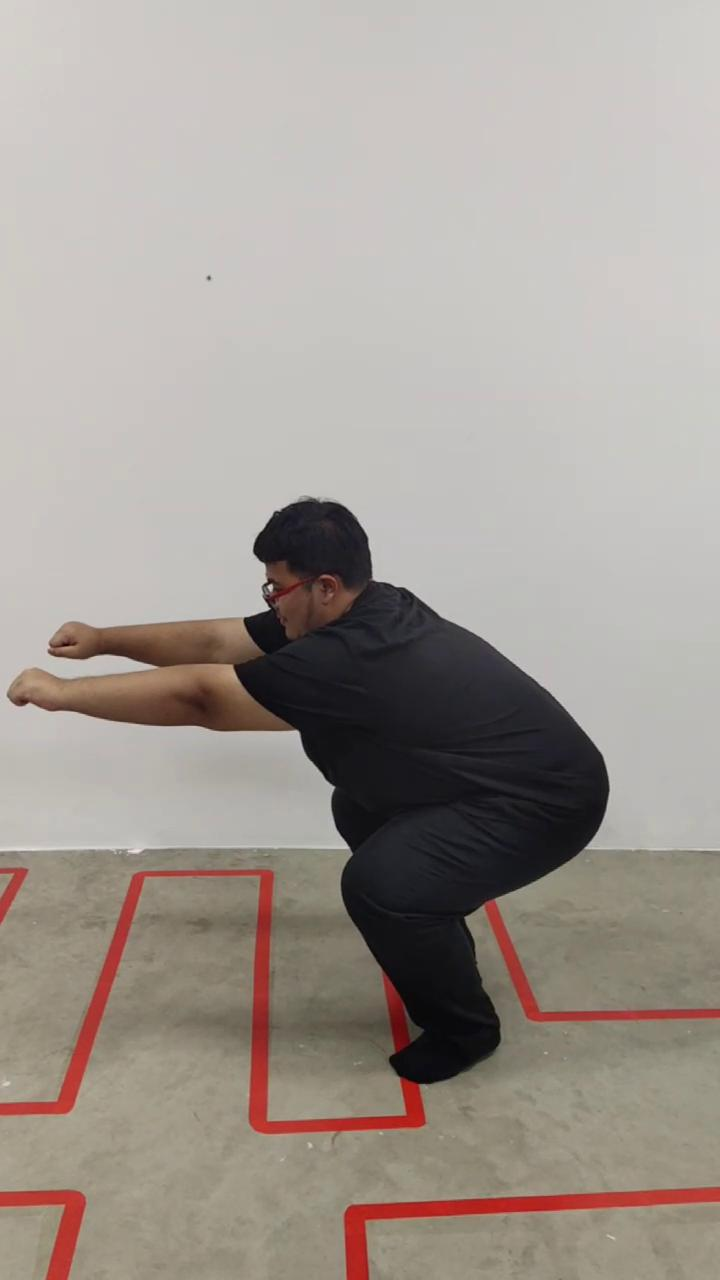squat down: (16, 497, 609, 1081)
